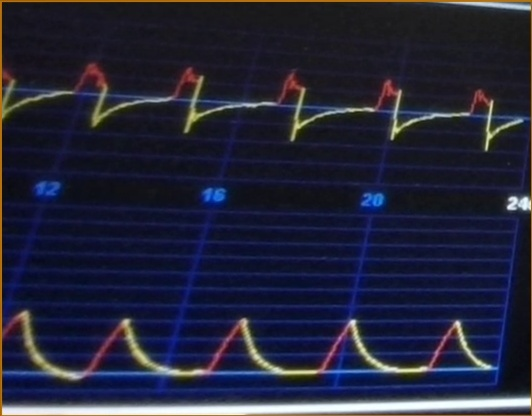Accumulation Flow: (3, 46, 524, 165)
Volume: (2, 289, 495, 389)
